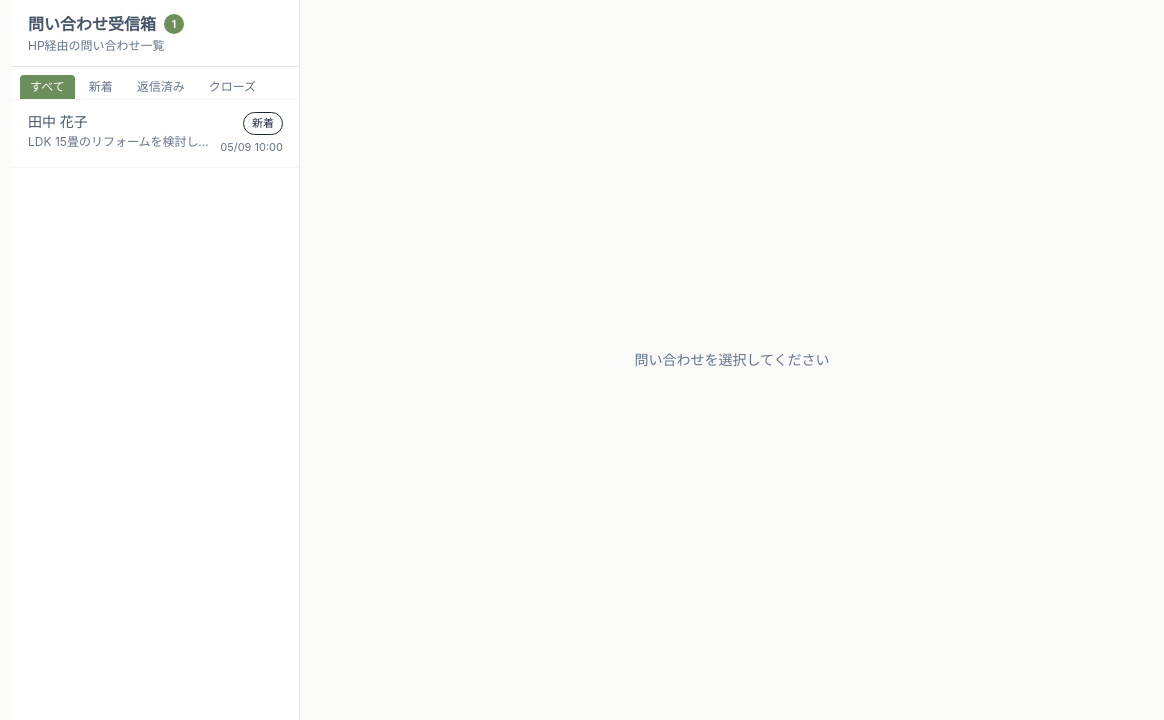
InquiryInboxPage — フィルタ › 「すべて」タブでリセットできる
Expected: the text "田中 花子" is shown, [28, 113, 88, 130]
Click the button "返信済み".
click(161, 87)  # box [127, 75, 195, 99]
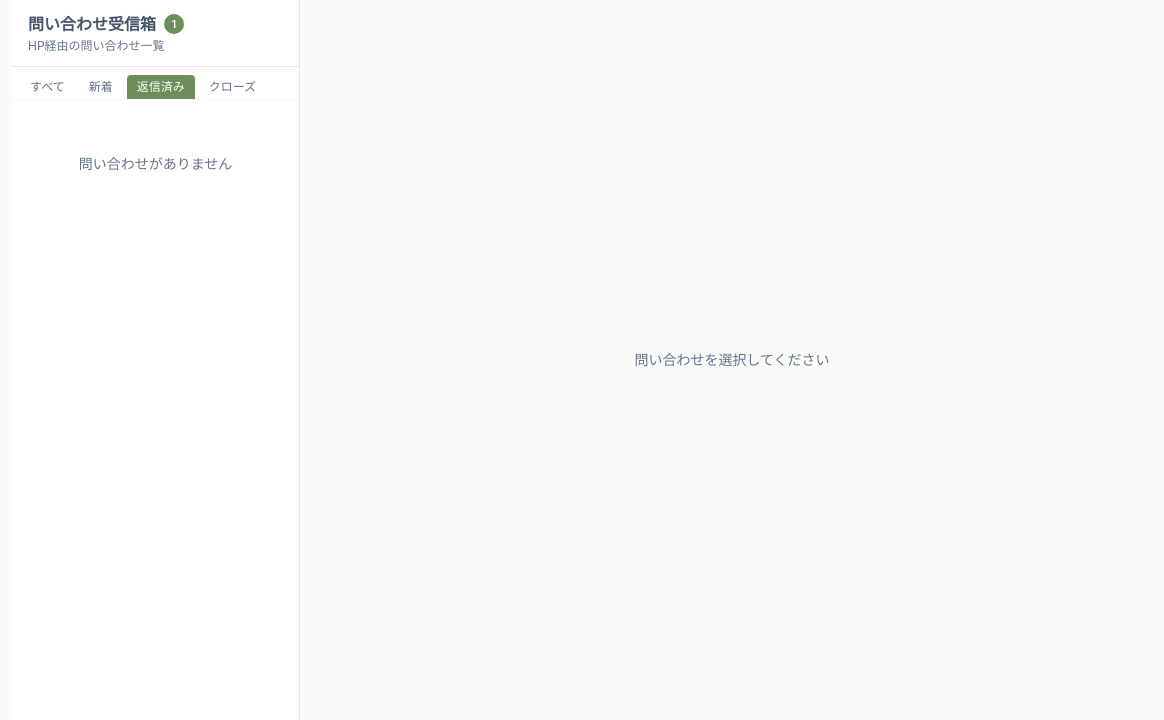
Click the button "すべて".
click(47, 87)  # box [20, 75, 75, 99]
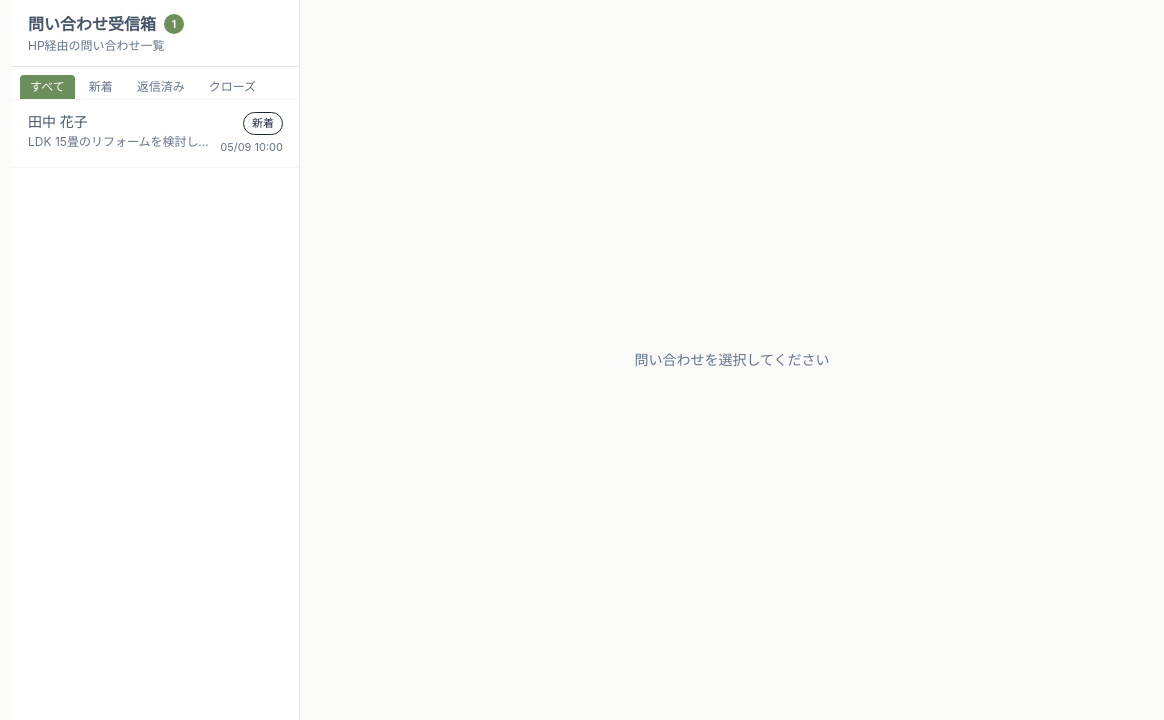
Result: the text "田中 花子" is shown at [28, 113, 88, 130]
